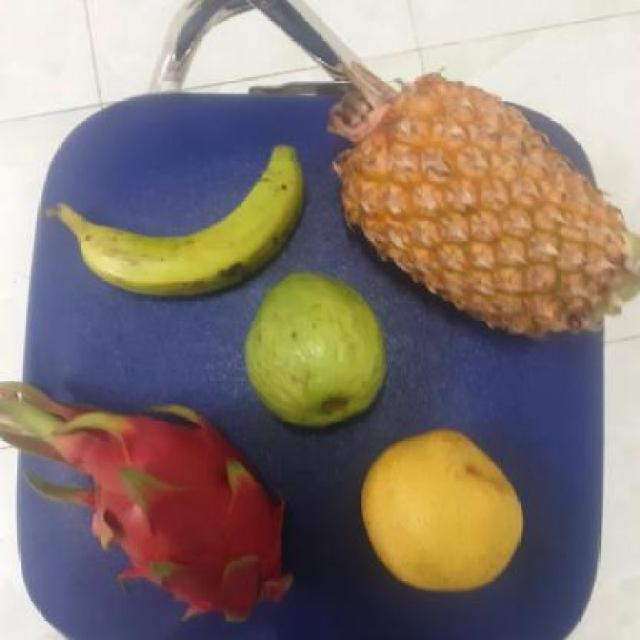banana: (72, 150, 316, 295)
dragon fruit: (96, 404, 286, 621)
guava: (248, 274, 394, 426)
pear: (361, 422, 528, 589)
pineapple: (350, 82, 639, 338)
